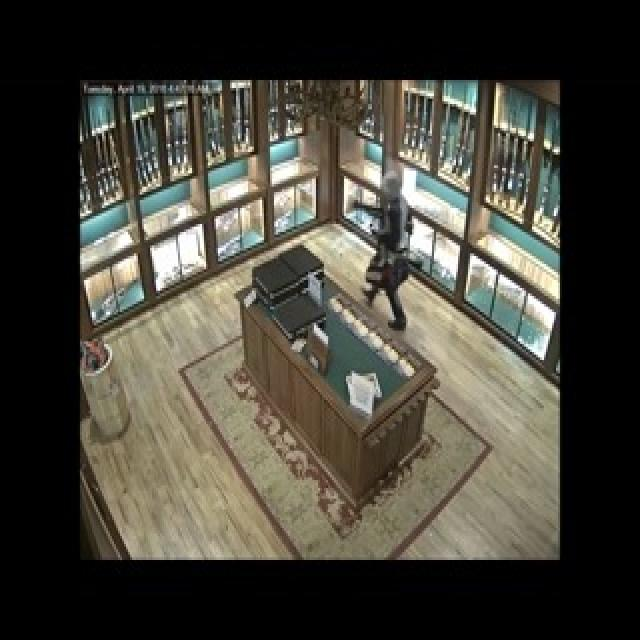thief: (356, 162, 435, 324)
